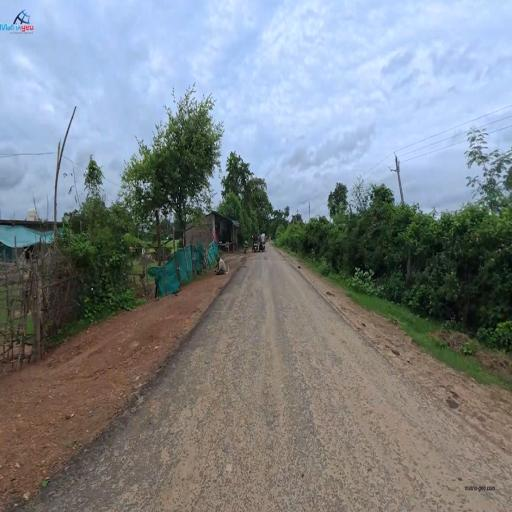ravelling: (217, 345, 349, 457)
